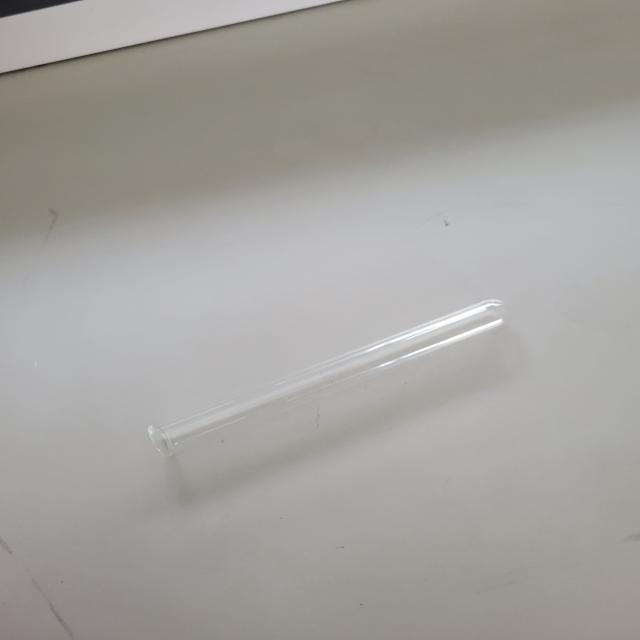Test_Tube: (106, 243, 552, 501)
